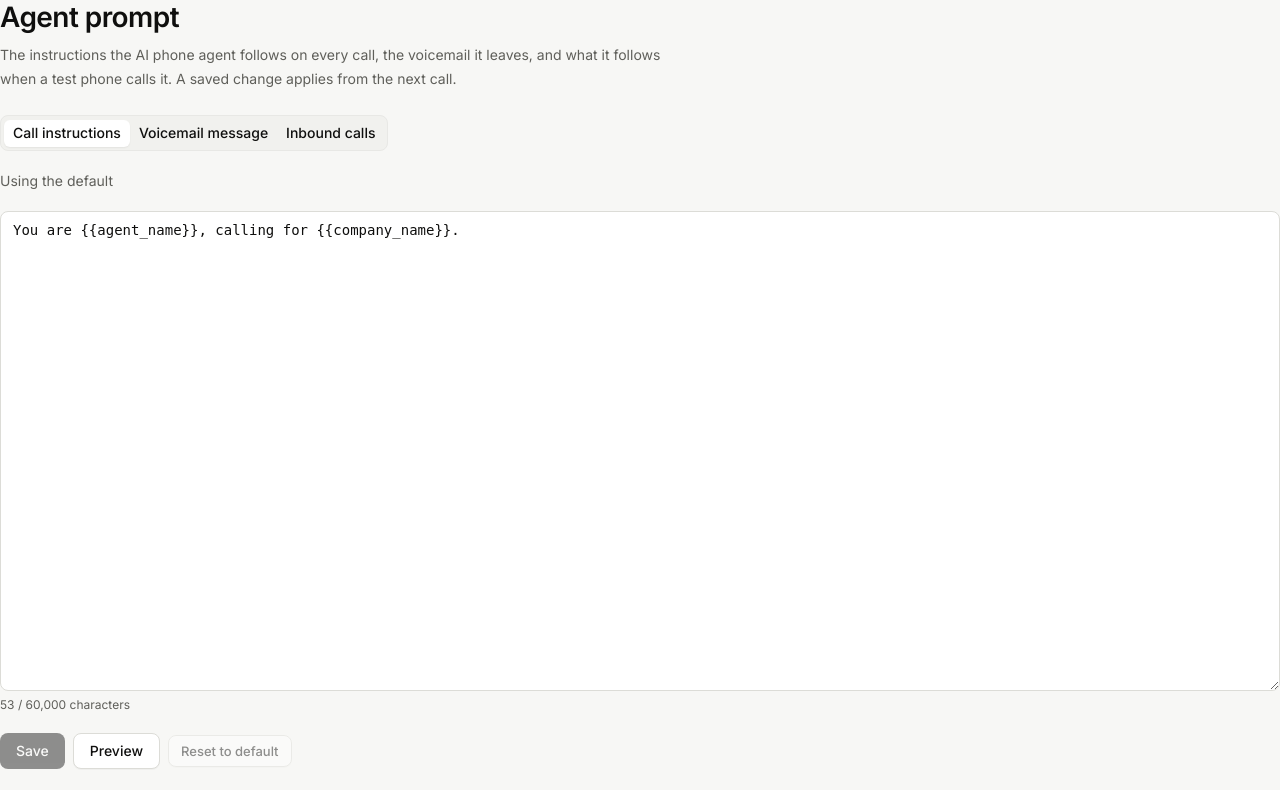
Test: AgentPromptPage › a refused save also reads the problems from an error envelope
Step 1. Type " x" into the text box named "Call instructions" → [640, 451], box [0, 211, 1279, 691]
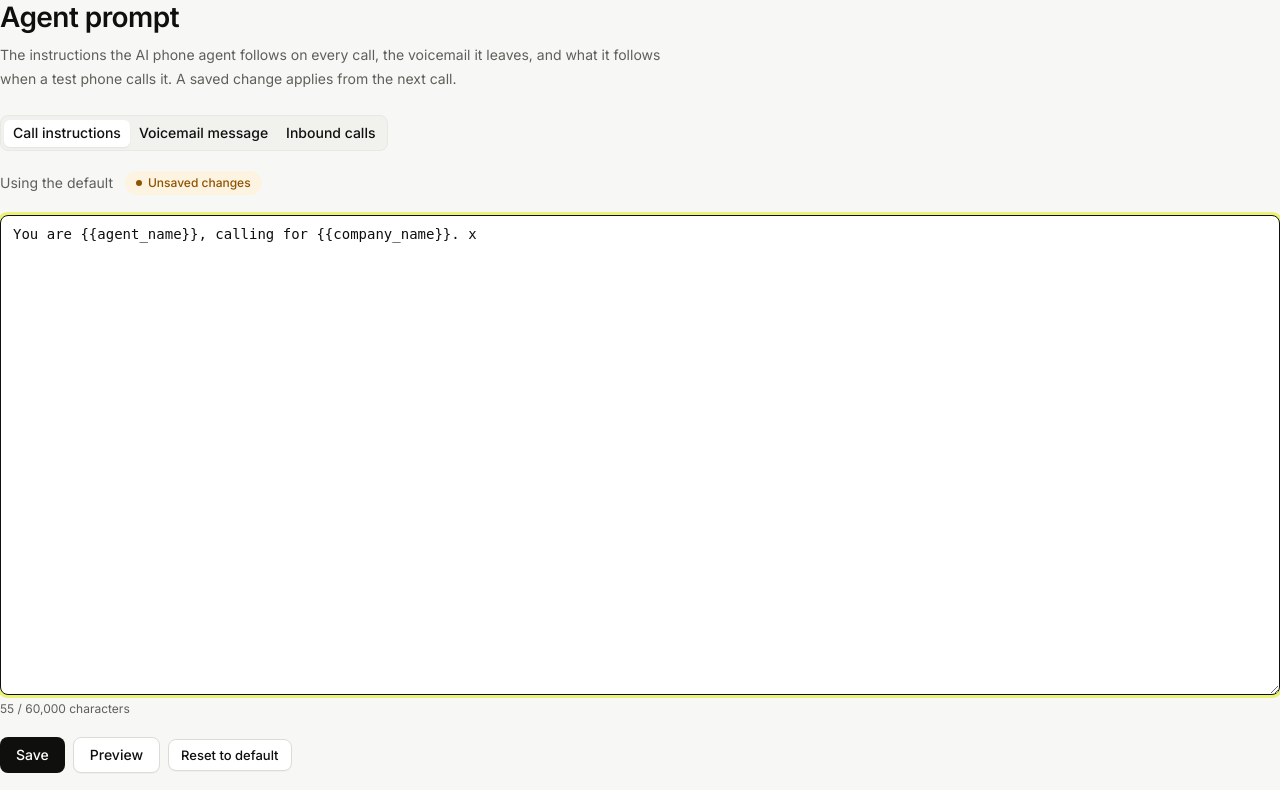
Step 2. Click the button "Save" → [32, 755], box [0, 737, 65, 773]
(page scrolled)
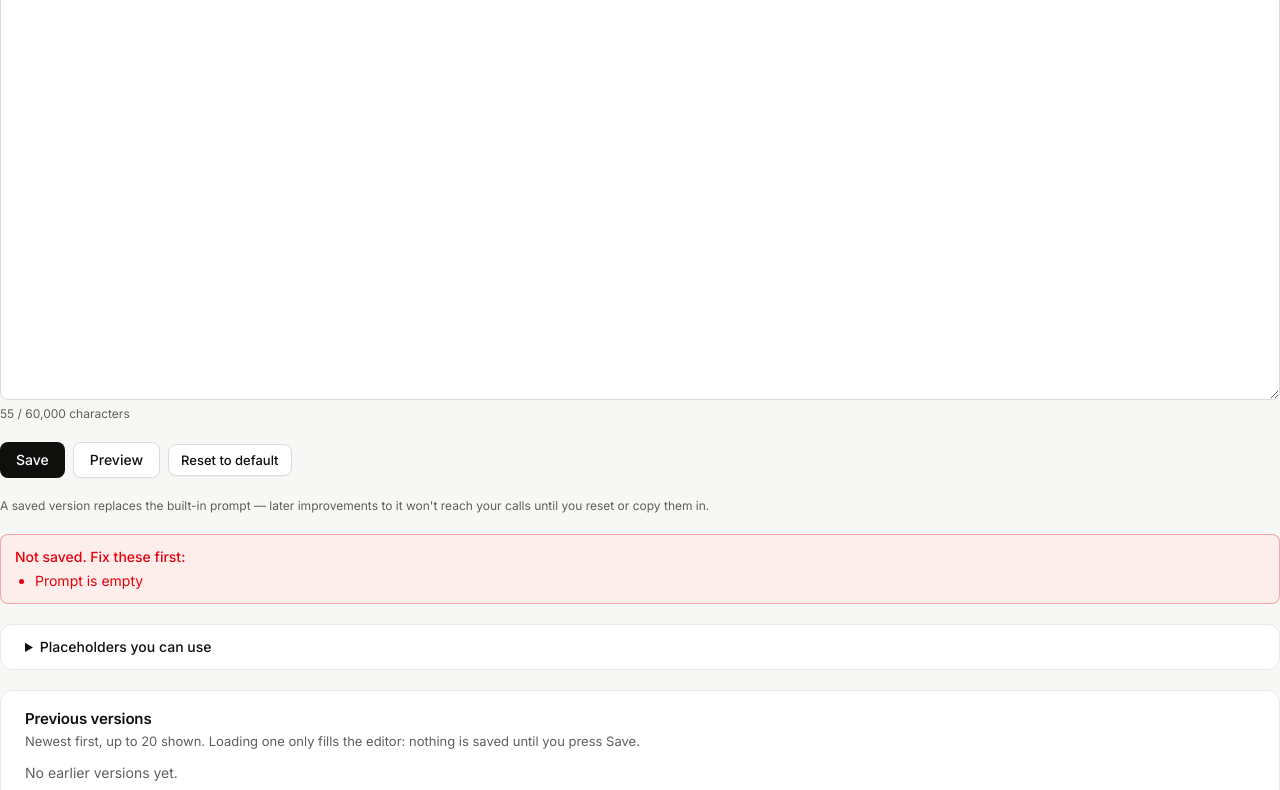
Check: the list item "Prompt is empty" is shown, box [35, 572, 143, 589]
